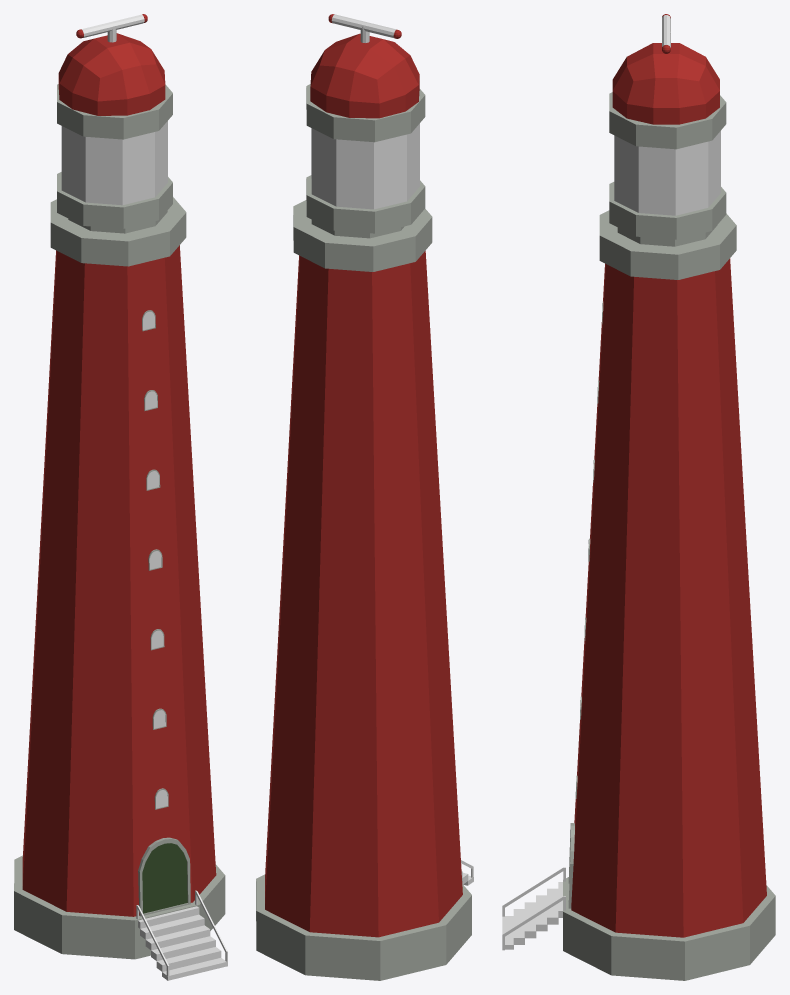
File: vuur_toren.fbx
The picture shows the model from 3 angles, left to right: view 1: azimuth 30°, elevation 25°; view 2: azimuth 150°, elevation 25°; view 3: azimuth 270°, elevation 25°; orthographic projection. The views are drawn at different scales.
Visible parts, largest first — view 1: Cylinder; view 2: Cylinder; view 3: Cylinder.
Part boxes in pixels (x1,y1,x2,y2): Cylinder: (14,14,227,980); Cylinder: (256,14,473,980); Cylinder: (502,14,775,980).
Size of the model in its own units: 1742 by 8002 by 2194.
